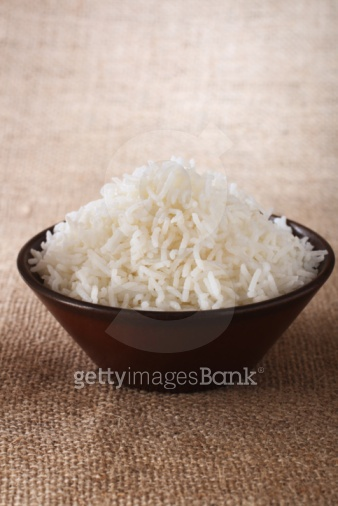plain rice: (41, 159, 310, 307)
